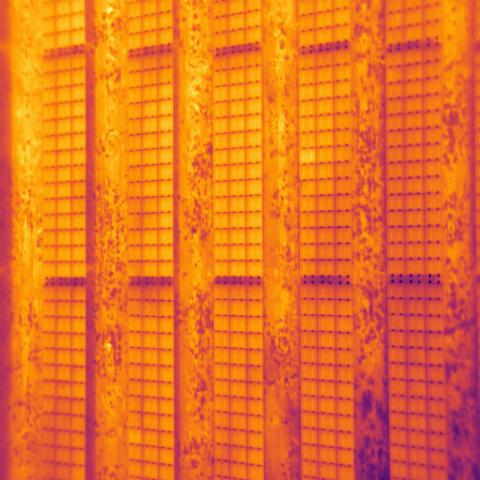fault: (298, 149, 316, 164)
